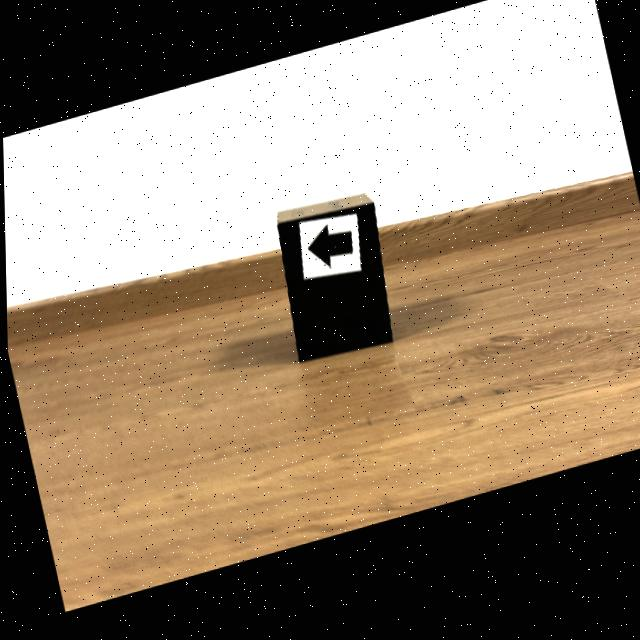LEFT: (307, 232, 352, 273)
